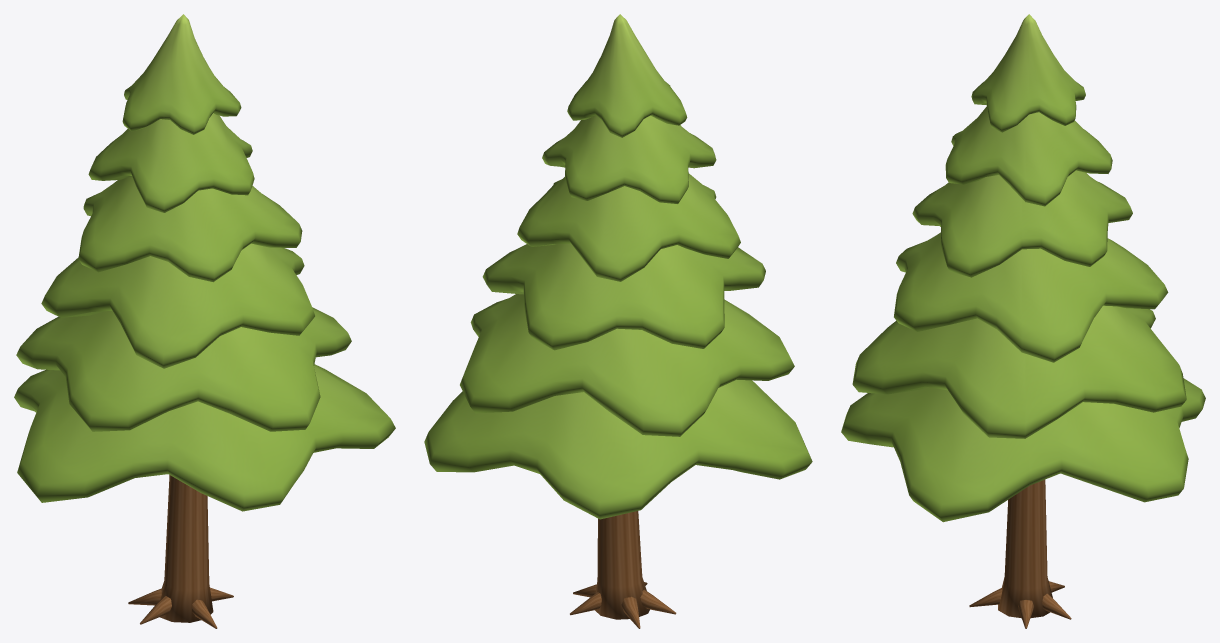
Rendered from SoftPine_v1.fbx.
3 views of the same model, side by side, from view 1: azimuth 30°, elevation 25°; view 2: azimuth 150°, elevation 25°; view 3: azimuth 270°, elevation 25° (orthographic).
Parts seen in each view (by area): view 1: SM_SoftPine_Foliage_LOD0, SM_SoftPine_Bark_LOD0; view 2: SM_SoftPine_Foliage_LOD0, SM_SoftPine_Bark_LOD0; view 3: SM_SoftPine_Foliage_LOD0, SM_SoftPine_Bark_LOD0.
Part boxes in pixels (left/top/right/bottom): SM_SoftPine_Foliage_LOD0: left=14, top=14, right=395, bottom=511; SM_SoftPine_Bark_LOD0: left=128, top=475, right=233, bottom=628; SM_SoftPine_Foliage_LOD0: left=424, top=14, right=812, bottom=519; SM_SoftPine_Bark_LOD0: left=570, top=511, right=676, bottom=628; SM_SoftPine_Foliage_LOD0: left=841, top=14, right=1205, bottom=522; SM_SoftPine_Bark_LOD0: left=969, top=479, right=1071, bottom=628.
Size of what is drawn, in the model's own units: 5 by 8.42 by 4.7.
Materials: 2 (2 with a texture image).
